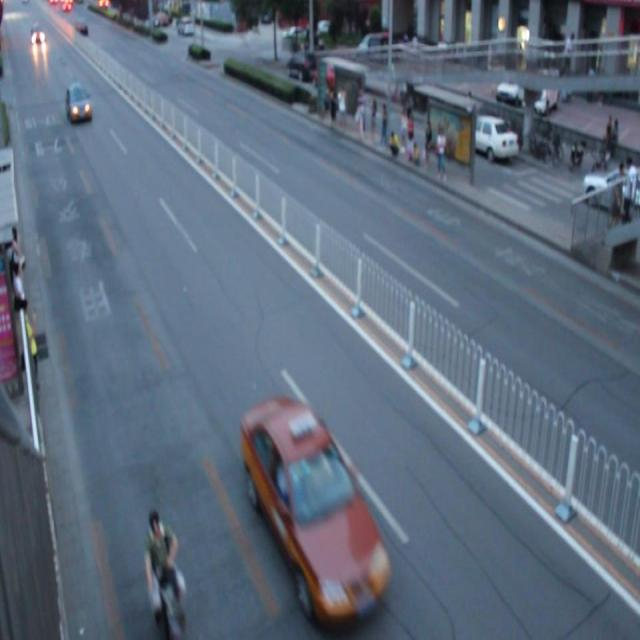car: (238, 394, 390, 615), (64, 80, 92, 126)
